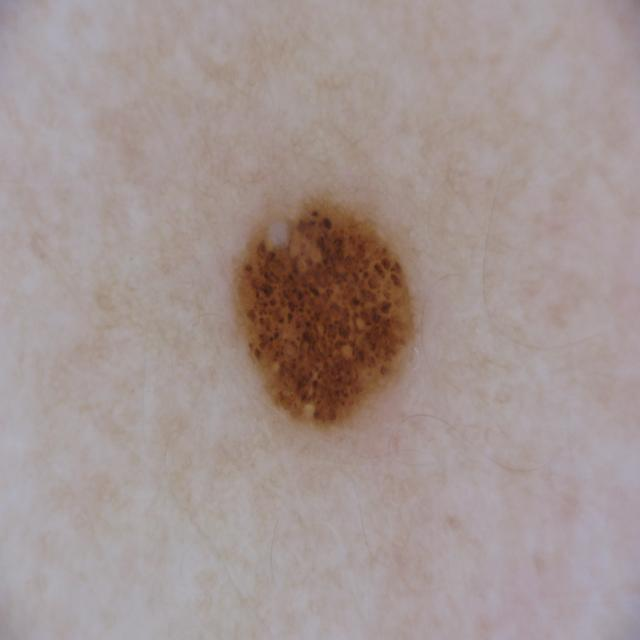Skin-Cancer Nevus: (122, 13, 568, 602)
